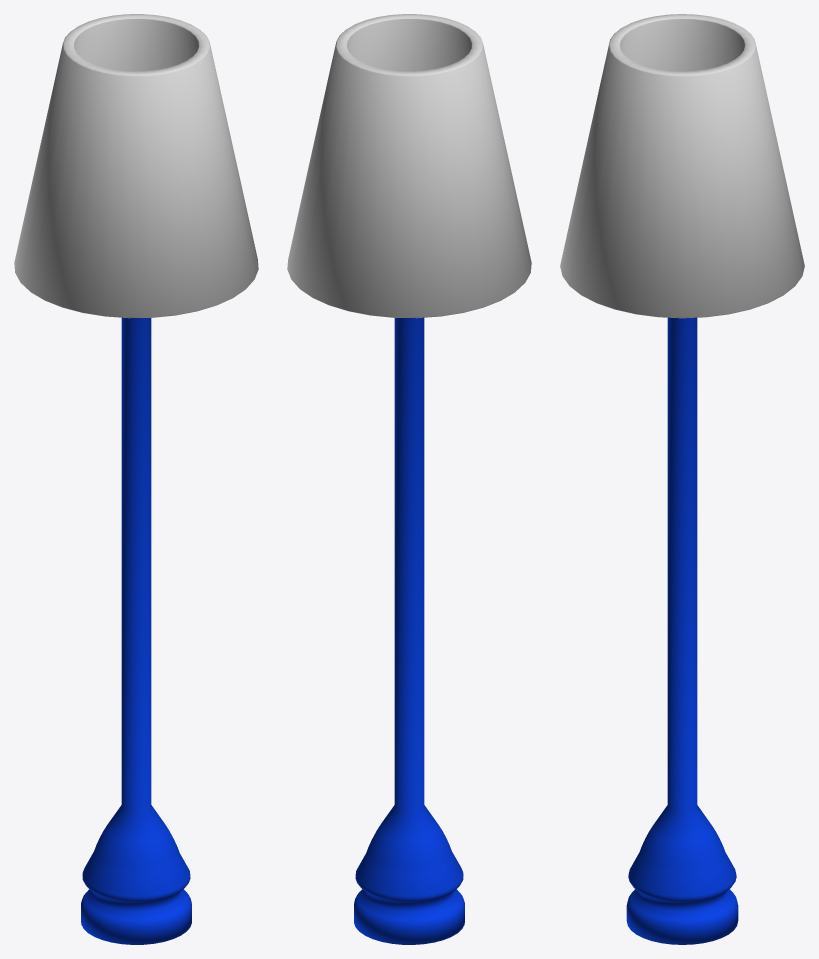
Rendered from BasicLamp.fbx.
3 views of the same model, side by side, from view 1: azimuth 30°, elevation 25°; view 2: azimuth 150°, elevation 25°; view 3: azimuth 270°, elevation 25° (orthographic).
Visible parts, largest first — view 1: LampHat, LampPost; view 2: LampHat, LampPost; view 3: LampHat, LampPost.
Boxes of the visible parts, bbox=[...] form: LampHat: bbox=[14, 14, 258, 318]; LampPost: bbox=[81, 317, 191, 944]; LampHat: bbox=[287, 14, 531, 318]; LampPost: bbox=[354, 317, 464, 944]; LampHat: bbox=[560, 14, 804, 318]; LampPost: bbox=[626, 317, 738, 944].
Bounding box in the file's own units: 200 × 789 × 200.
